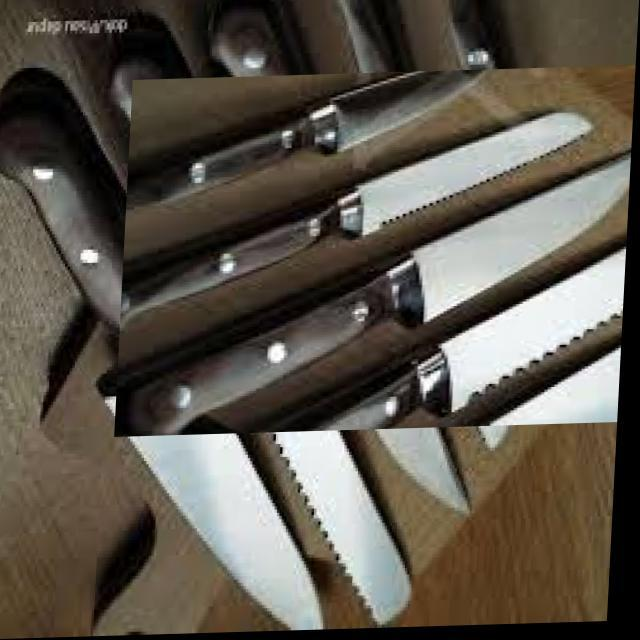knife: (159, 27, 618, 479)
